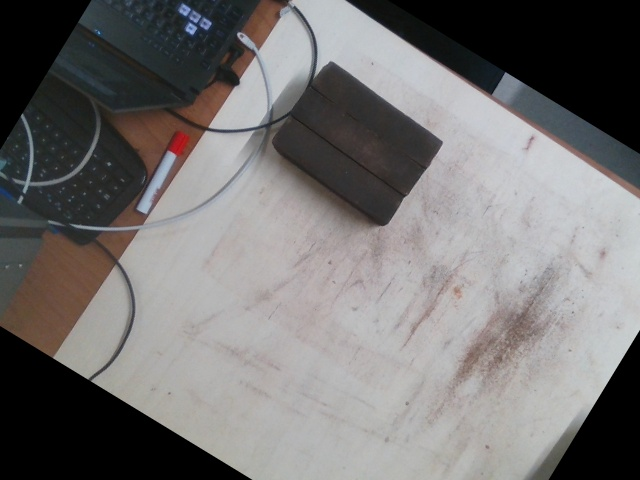brick-side: (313, 62, 441, 166), (294, 89, 422, 193), (274, 118, 402, 222)
